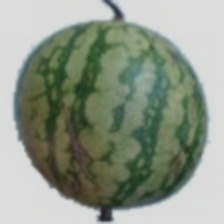watermelon: (33, 19, 197, 218)
